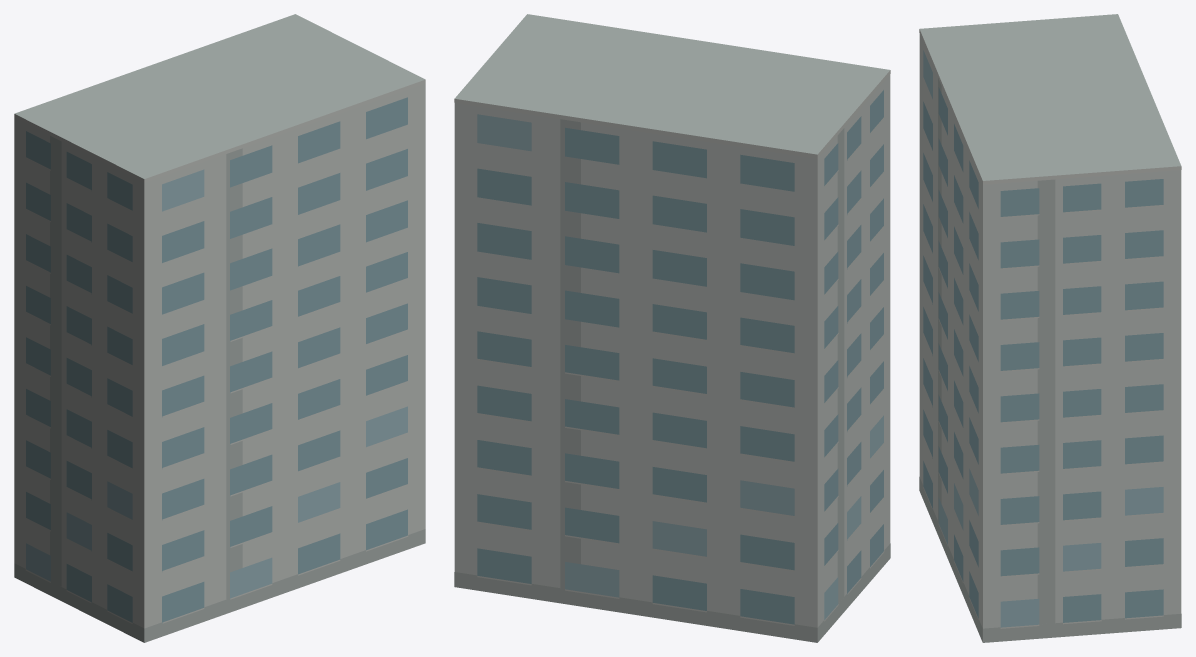
Rendered from residential-fed868bf-389a-4c94-88af-bb79cb1fc3eb.glb.
The picture shows the model from 3 angles, left to right: view 1: azimuth 30°, elevation 25°; view 2: azimuth 150°, elevation 25°; view 3: azimuth 270°, elevation 25°; orthographic projection. The views are drawn at different scales.
Visible parts, largest first — view 1: residential-fed868bf-389a-4c94-88af-bb79cb1fc3eb.tmp; view 2: residential-fed868bf-389a-4c94-88af-bb79cb1fc3eb.tmp; view 3: residential-fed868bf-389a-4c94-88af-bb79cb1fc3eb.tmp.
Boxes of the visible parts, box(x1,y1,x2,y2) form: residential-fed868bf-389a-4c94-88af-bb79cb1fc3eb.tmp: box(14, 14, 425, 642); residential-fed868bf-389a-4c94-88af-bb79cb1fc3eb.tmp: box(454, 14, 890, 642); residential-fed868bf-389a-4c94-88af-bb79cb1fc3eb.tmp: box(919, 14, 1181, 642).
Size of the model in its own units: 22.49 by 29 by 14.92.
